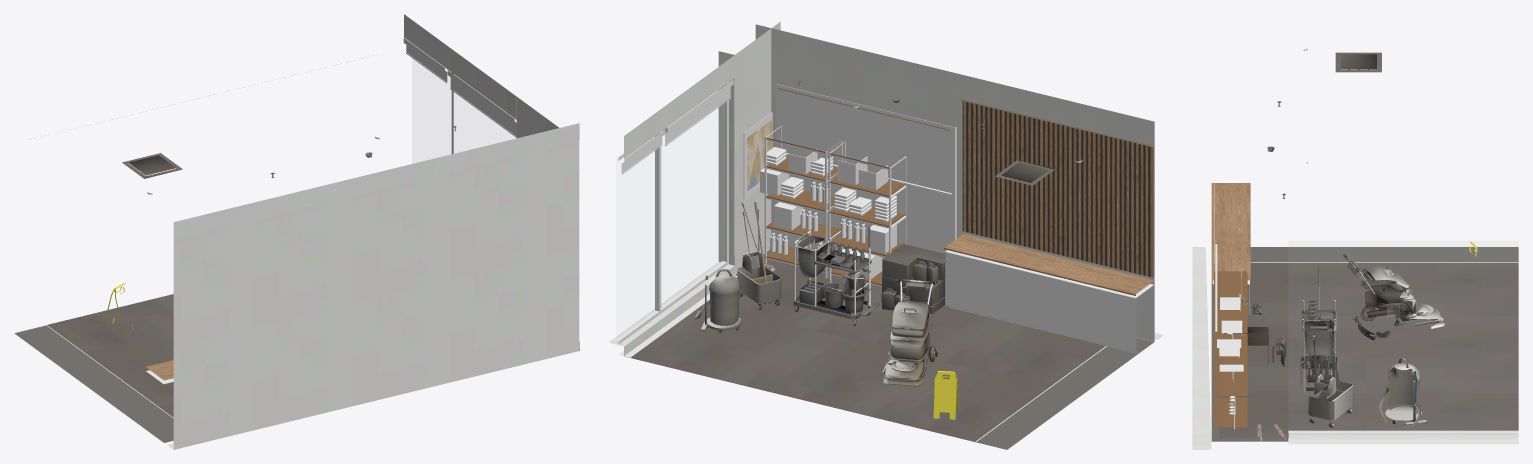
Rendered from z-equipment-lite.full.d0eb6a2b.glb.
3 views of the same model, side by side, from view 1: azimuth 30°, elevation 25°; view 2: azimuth 150°, elevation 25°; view 3: azimuth 270°, elevation 25° (orthographic). The views are drawn at different scales.
Visible parts, largest first — view 1: equipment_plaster, equipment_bay_floor, equipment_carpet, equipment_satin, equipment_fx; view 2: equipment_satin, equipment_bay_floor, equipment_plaster, equipment_proxy_slat, equipment_fx, equipment_metal_lit, equipment_carpet, equipment_oak, equipment_steel_frame_shelves_01, equipment_art, equipment_WetFloorSign_01, equipment_emit; view 3: equipment_bay_floor, equipment_fx, equipment_carpet, equipment_plaster, equipment_steel_frame_shelves_01, equipment_satin, equipment_oak, equipment_metal_lit.
Boxes of the visible parts, <box> form: equipment_plaster: <box>167,14,579,449</box>; equipment_bay_floor: <box>47,294,173,417</box>; equipment_carpet: <box>14,325,173,442</box>; equipment_satin: <box>146,38,516,383</box>; equipment_fx: <box>122,126,456,178</box>; equipment_satin: <box>614,79,1153,357</box>; equipment_bay_floor: <box>630,259,1105,441</box>; equipment_plaster: <box>608,21,1163,355</box>; equipment_proxy_slat: <box>962,101,1153,277</box>; equipment_fx: <box>694,81,1054,386</box>; equipment_metal_lit: <box>743,112,1106,441</box>; equipment_carpet: <box>624,250,1154,449</box>; equipment_oak: <box>944,234,1154,295</box>; equipment_steel_frame_shelves_01: <box>766,137,904,285</box>; equipment_art: <box>747,120,771,190</box>; equipment_WetFloorSign_01: <box>933,370,958,419</box>; equipment_emit: <box>778,88,1151,146</box>; equipment_bay_floor: <box>1219,263,1518,437</box>; equipment_fx: <box>1224,52,1444,428</box>; equipment_carpet: <box>1211,247,1518,441</box>; equipment_plaster: <box>1192,247,1518,449</box>; equipment_steel_frame_shelves_01: <box>1214,271,1247,427</box>; equipment_satin: <box>1212,48,1518,444</box>; equipment_oak: <box>1211,183,1250,281</box>; equipment_metal_lit: <box>1215,240,1518,391</box>.
Bounding box in the file's own units: 6.25 × 3.35 × 4.25.
14 materials, 7 textured.
